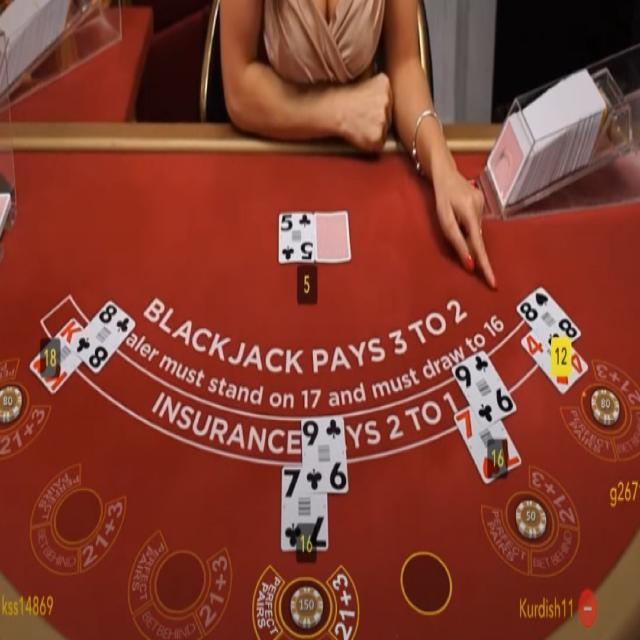Card-4: (520, 329, 589, 394)
Card-5: (278, 212, 315, 262)
Card-7: (453, 406, 522, 484), (282, 465, 328, 550)
Card-8: (72, 298, 136, 376), (516, 284, 582, 355)
Card-9: (451, 348, 517, 430), (301, 416, 348, 493)
Card-K: (30, 316, 84, 395)
